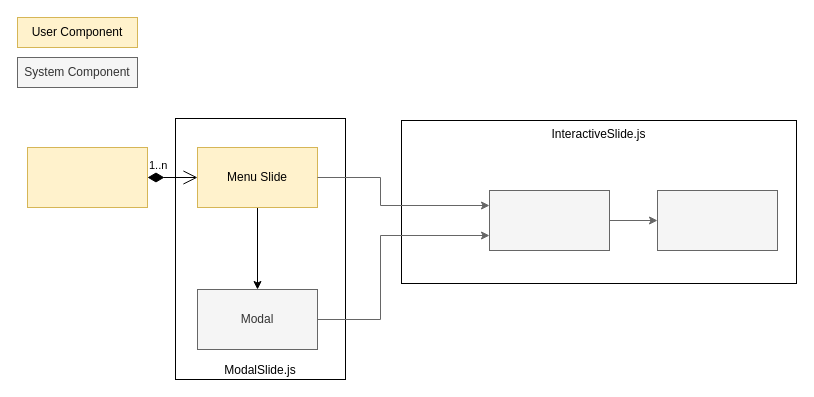
Some shapes in this 814 by 397 pixel diagram are drawn without their labels. Here are the shapes that lost their labels. From the top down, the centre of each, then its label:
pixel 87 177: Slide List
pixel 549 220: Interactive Slide
pixel 717 220: MenuButtons
